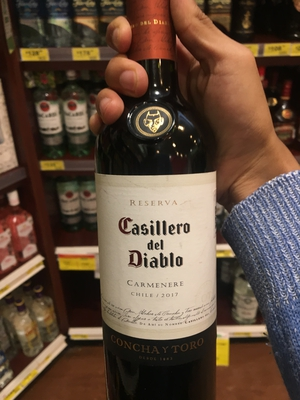casillero del diablo carmenere: (95, 11, 256, 400)
